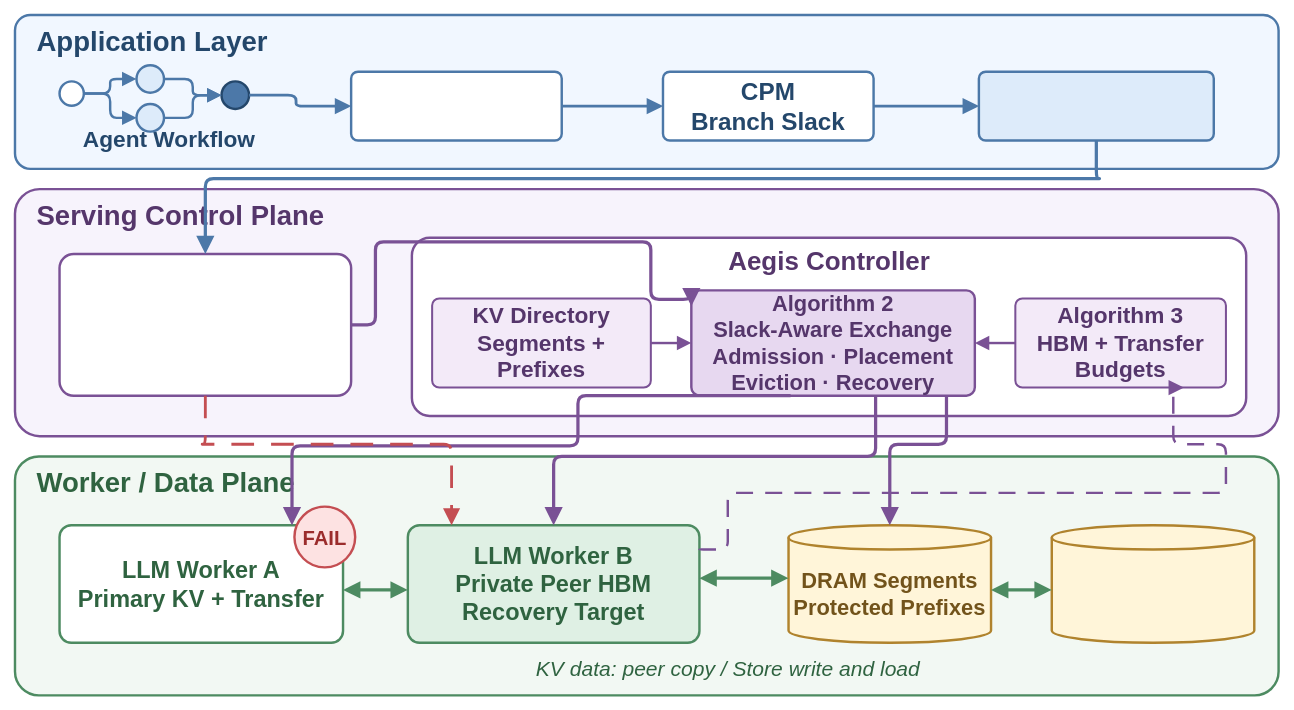
Image size: 1294x710. Some labels were removed from this diagram. Each missing label, with the centre of its shape:
"GBDT Agent Duration" belongs at point (456, 105).
"LLM Request + Slack sᵢ" belongs at point (1096, 105).
"Router / Conductor Route + Failure Target Output Fence" belongs at point (205, 324).
"SSD Store KV Prefixes" belongs at point (1152, 584).
